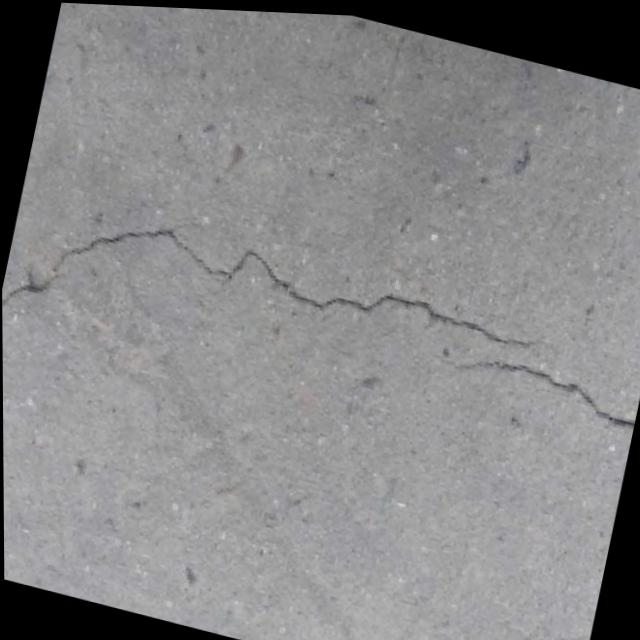Crack: (1, 165, 640, 518)
